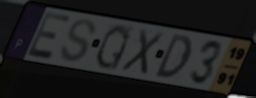3: (190, 39, 226, 86)
D: (153, 33, 194, 80)
E: (24, 11, 74, 62)
Q: (93, 23, 133, 72)
S: (58, 18, 98, 64)
X: (118, 27, 165, 77)
